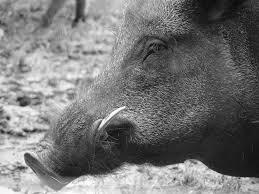wildboar: (21, 0, 259, 191)
